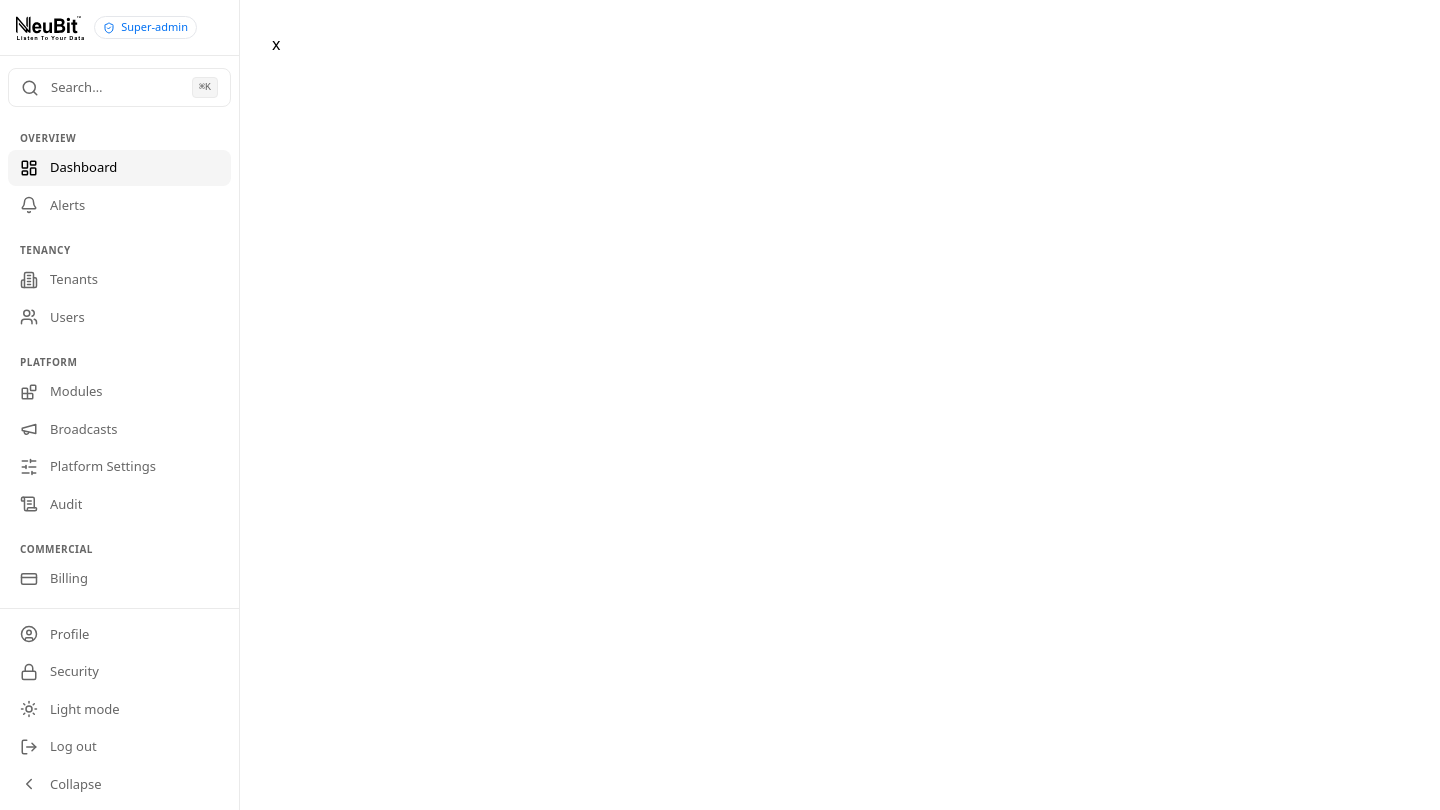
Test: panel shell › confirms before logging out
What coordinates should you click on to do the following:
click the button "Log out"
I would click on:
 (120, 747)
Its box is [8,729,231,764].
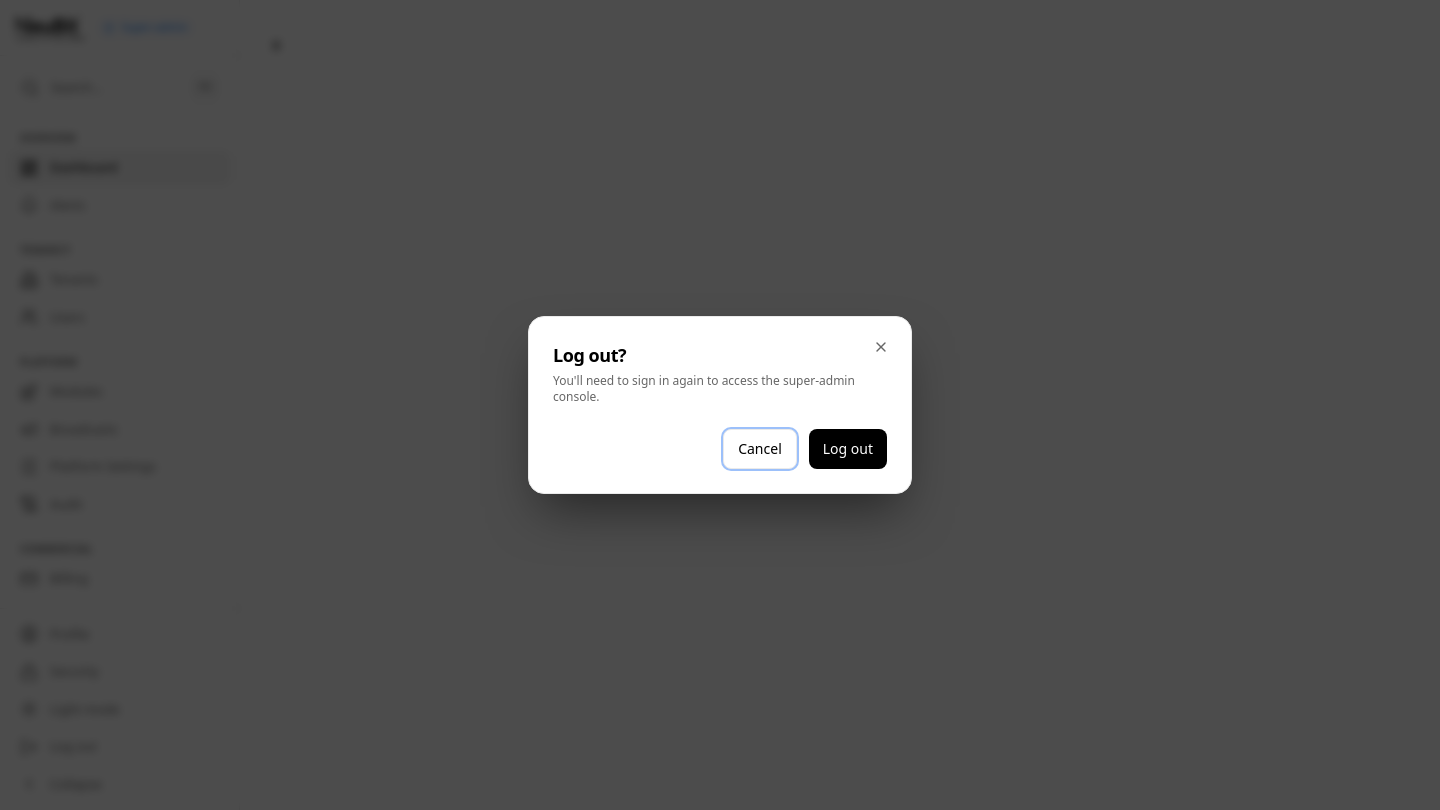
expect the text "sign in again" is shown: met, box [553,372,855,405]
